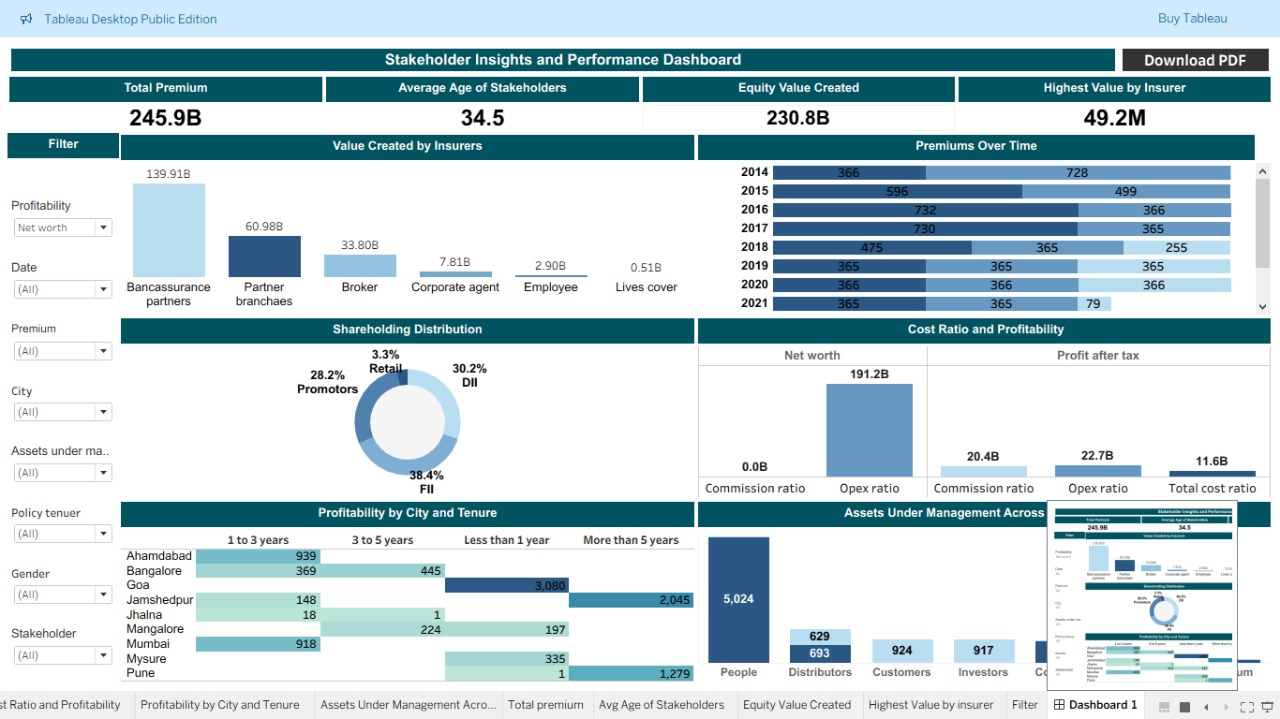

What the dashboard file says about the page in this screenshot:
{"tool":"tableau","page":{"name":"Dashboard 1","canvas":[1000,1000],"units":"permille","ordinal":0},"visuals":[{"type":"text","box":[6.7,14.5,849.4,58]},{"type":"dashboard-object","box":[856.1,14.5,137.2,58]},{"type":"worksheet","title":"Total premium","mark":"Automatic","box":[6.7,72.5,246.9,112.3]},{"type":"worksheet","title":"Avg Age of Stakeholders","mark":"Automatic","box":[253.6,72.5,246.9,112.3]},{"type":"worksheet","title":"Equity Value Created","mark":"Automatic","box":[500.4,72.5,246.9,112.3]},{"type":"worksheet","title":"Highest Value by insurer","mark":"Automatic","box":[747.3,72.5,246,112.3]},{"type":"worksheet","title":"Filter","mark":"Automatic","box":[6.7,184.8,99.6,90.6]},{"type":"worksheet","title":"value created by insures","mark":"Automatic","rows":["Value Created"],"cols":["Insurer"],"box":[106.3,184.8,443.5,268.1]},{"type":"worksheet","title":"Premiums Over Time","mark":"Bar","rows":["Date"],"cols":["Premium 1"],"box":[549.8,184.8,443.5,268.1]},{"type":"filter","title":"Filter","param":"[federated.1wtwuf302irm6l1fq12e315wxp1x].[none:Profitability:nk]","box":[6.7,275.4,99.6,88.8]},{"type":"filter","title":"Filter","param":"[federated.1wtwuf302irm6l1fq12e315wxp1x].[my:Date:ok]","box":[6.7,364.1,99.6,88.8]},{"type":"filter","title":"Filter","param":"[federated.1wtwuf302irm6l1fq12e315wxp1x].[none:Premium 1:nk]","box":[6.7,452.9,99.6,88.8]},{"type":"worksheet","title":"Shareholding Distribution","mark":"Pie","rows":["Calculation_0736427773112320","Calculation_0736427773112320"],"box":[106.3,452.9,443.5,266.3]},{"type":"worksheet","title":" Cost Ratio and Profitability","mark":"Automatic","rows":["Value Created"],"cols":["Profitability","Cost ratio"],"box":[549.8,452.9,443.5,266.3]},{"type":"filter","title":"Filter","param":"[federated.1wtwuf302irm6l1fq12e315wxp1x].[none:City:nk]","box":[6.7,541.7,99.6,88.8]},{"type":"filter","title":"Filter","param":"[federated.1wtwuf302irm6l1fq12e315wxp1x].[none:Assets under management:nk]","box":[6.7,630.4,99.6,88.8]},{"type":"filter","title":"Filter","param":"[federated.1wtwuf302irm6l1fq12e315wxp1x].[none:Policy tenuer:nk]","box":[6.7,719.2,99.6,88.8]},{"type":"worksheet","title":"Profitability by City and Tenure","mark":"Square","rows":["City"],"cols":["Policy tenuer"],"box":[106.3,719.2,443.5,266.3]},{"type":"worksheet","title":"Assets Under Management Across Stakeholders","mark":"Automatic","rows":["Assets under management"],"cols":["Stakeholder"],"box":[549.8,719.2,443.5,266.3]},{"type":"filter","title":"Filter","param":"[federated.1wtwuf302irm6l1fq12e315wxp1x].[none:Gender:nk]","box":[6.7,808,99.6,88.8]},{"type":"filter","title":"Filter","param":"[federated.1wtwuf302irm6l1fq12e315wxp1x].[none:Stakeholder:nk]","box":[6.7,896.7,99.6,88.8]}]}

Visuals, with their boxes on the dashboard's canvas, which has no fixed pixel size, in thousandths of its width and height (x1, y1, x2, y2). These are canvas units, not pixel positions in the 1280x719 screenshot, which may show the page scaled, cropped or inside an application window:
text: (7, 14, 856, 72)
dashboard-object: (856, 14, 993, 72)
"Total premium" worksheet: (7, 72, 254, 185)
"Avg Age of Stakeholders" worksheet: (254, 72, 500, 185)
"Equity Value Created" worksheet: (500, 72, 747, 185)
"Highest Value by insurer" worksheet: (747, 72, 993, 185)
"Filter" worksheet: (7, 185, 106, 275)
"value created by insures" worksheet: (106, 185, 550, 453)
"Premiums Over Time" worksheet (Bar marks): (550, 185, 993, 453)
"Filter" filter: (7, 275, 106, 364)
"Filter" filter: (7, 364, 106, 453)
"Filter" filter: (7, 453, 106, 542)
"Shareholding Distribution" worksheet (Pie marks): (106, 453, 550, 719)
" Cost Ratio and Profitability" worksheet: (550, 453, 993, 719)
"Filter" filter: (7, 542, 106, 630)
"Filter" filter: (7, 630, 106, 719)
"Filter" filter: (7, 719, 106, 808)
"Profitability by City and Tenure" worksheet (Square marks): (106, 719, 550, 986)
"Assets Under Management Across Stakeholders" worksheet: (550, 719, 993, 986)
"Filter" filter: (7, 808, 106, 897)
"Filter" filter: (7, 897, 106, 986)
